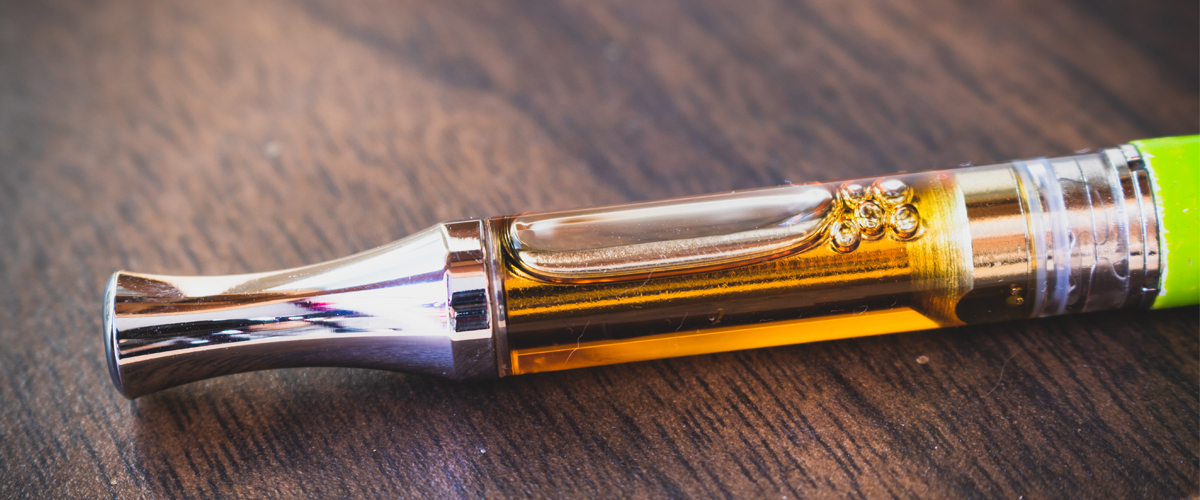weed_pen: (75, 208, 1169, 385)
